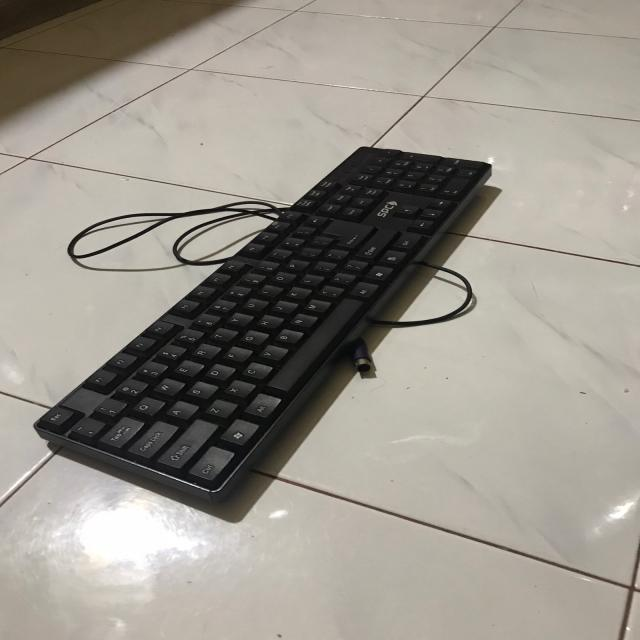-mouse-: (34, 143, 496, 507)
